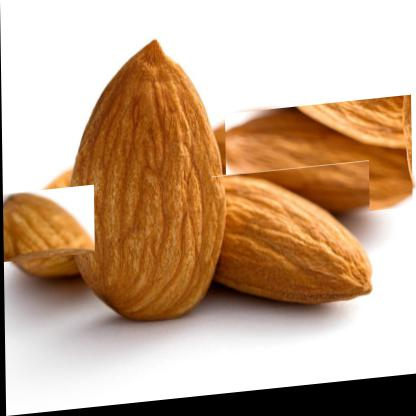almond: (65, 37, 228, 333), (213, 103, 413, 232), (211, 168, 371, 320), (2, 178, 86, 272)
